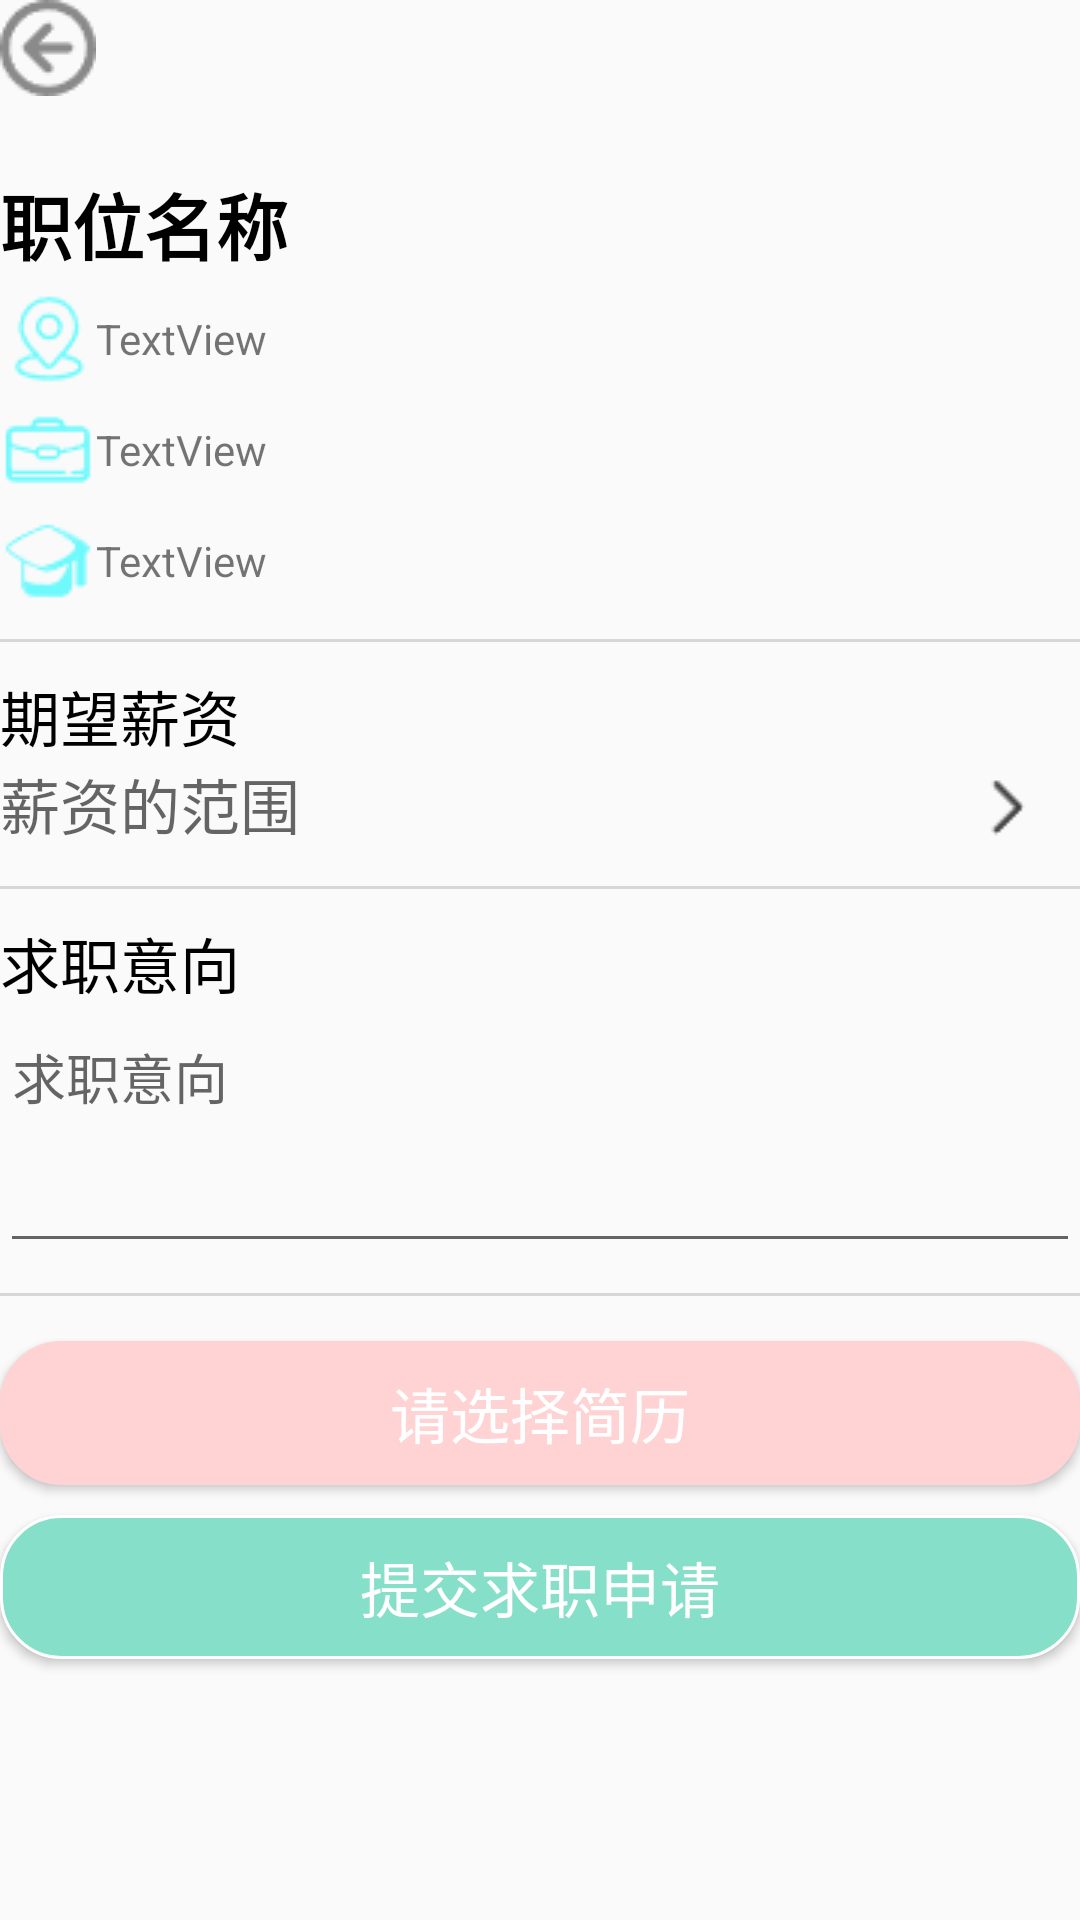

Icons on this 1080x1920 Android screen, each with its box as Rect(x1, y1, x2, y2):
fanjhui: Rect(0, 0, 96, 96)
gongwenbao: Rect(5, 416, 91, 484)
jinru: Rect(992, 780, 1023, 835)
weizhi: Rect(14, 296, 84, 382)
xueli: Rect(5, 524, 91, 598)
